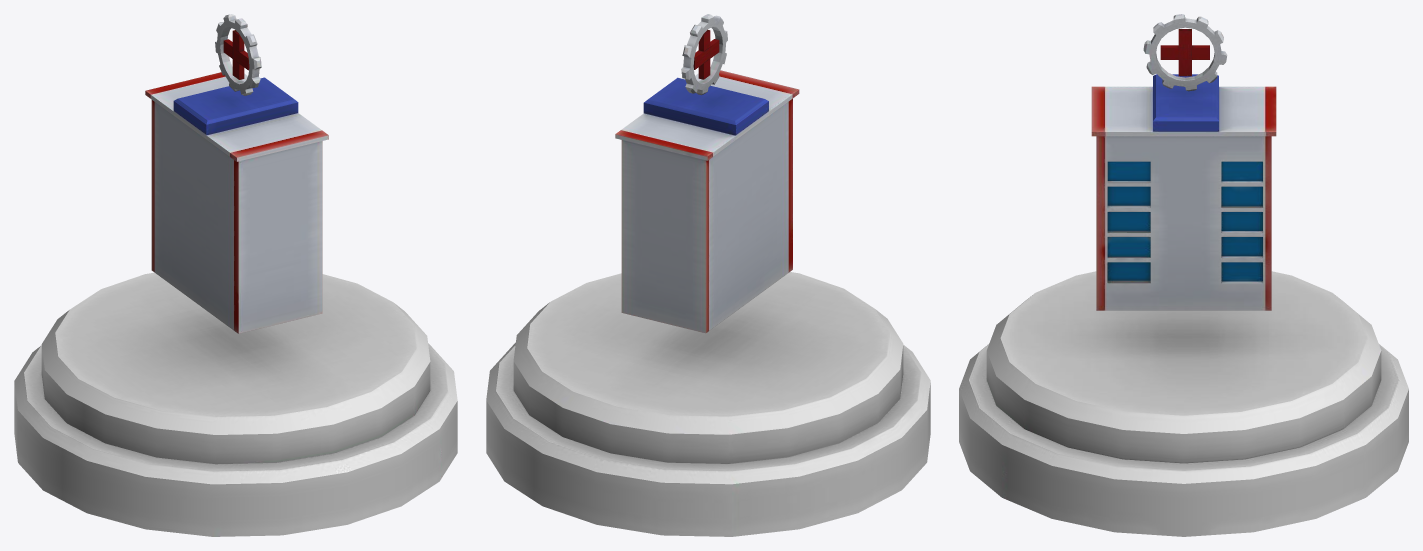
File: HOSPITALPRATA.fbx
3 views of the same model, side by side, from view 1: azimuth 30°, elevation 25°; view 2: azimuth 150°, elevation 25°; view 3: azimuth 270°, elevation 25° (orthographic).
Parts seen in each view (by area): view 1: polySurface1, polySurface4; view 2: polySurface1, polySurface4; view 3: polySurface1, polySurface4.
Boxes of the visible parts, x1,y1,x2,y2 form: polySurface1: (14, 272, 457, 536); polySurface4: (145, 14, 328, 333); polySurface1: (486, 272, 930, 536); polySurface4: (615, 14, 799, 333); polySurface1: (959, 271, 1408, 536); polySurface4: (1091, 14, 1276, 310).
Size of the model in its own units: 0.4773 by 0.5017 by 0.4773.
Materials: 1 (1 with a texture image).
